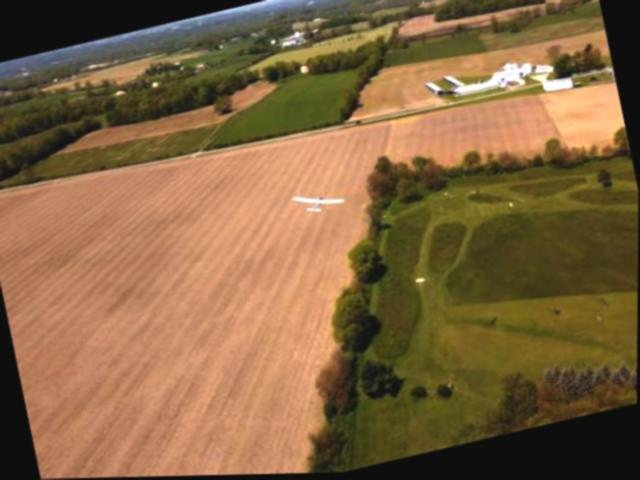uav: (284, 176, 353, 233)
